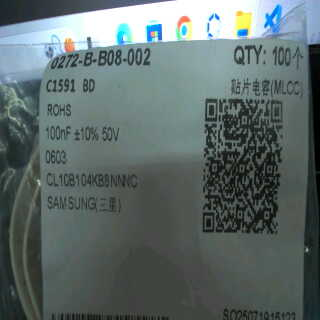100nF: (44, 124, 74, 144)
